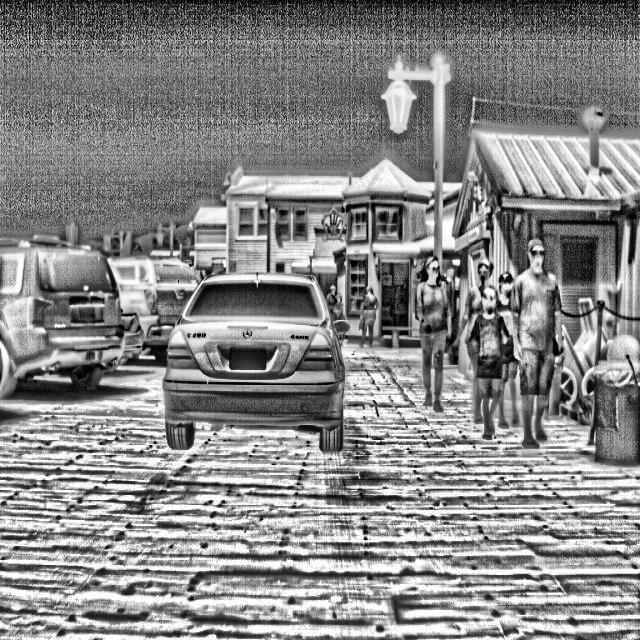car: (160, 254, 354, 452), (4, 227, 157, 411), (101, 245, 222, 340)
light: (366, 49, 460, 162)
person and bycle: (512, 245, 576, 441), (467, 264, 531, 425), (421, 260, 466, 410), (475, 294, 524, 429), (357, 290, 391, 348)
